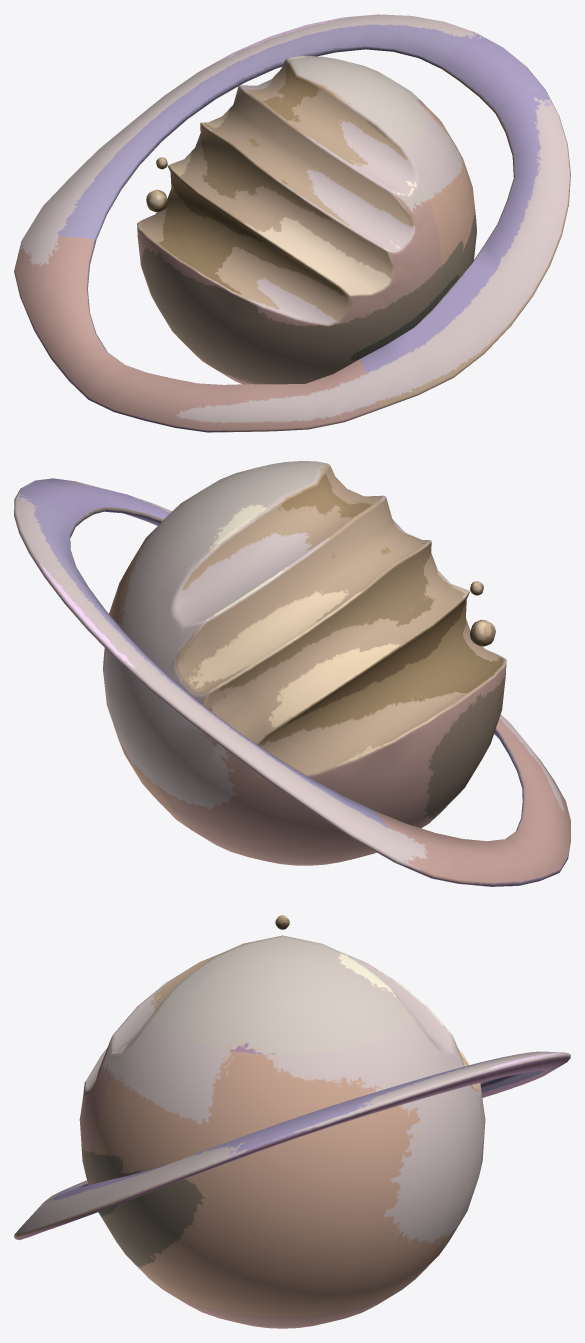
File: ToonPlanet3_v2.glb
3 renders of one model, top to bottom at view 1: azimuth 30°, elevation 25°; view 2: azimuth 150°, elevation 25°; view 3: azimuth 270°, elevation 25°, orthographic. The views are drawn at different scales.
Visible parts, largest first — view 1: Planet05, Planet05_Ring01; view 2: Planet05, Planet05_Ring01, Planet05_Moon01; view 3: Planet05, Planet05_Ring01.
Part boxes in pixels (x1,y1,x2,y2): Planet05: [137, 56, 476, 384]; Planet05_Ring01: [14, 14, 570, 432]; Planet05: [103, 461, 506, 865]; Planet05_Ring01: [14, 478, 570, 886]; Planet05_Moon01: [470, 619, 495, 646]; Planet05: [79, 935, 485, 1328]; Planet05_Ring01: [14, 1051, 570, 1240].
Size of the model in its own units: 18.71 by 12.41 by 16.94.
Materials: 1 (1 with a texture image).
